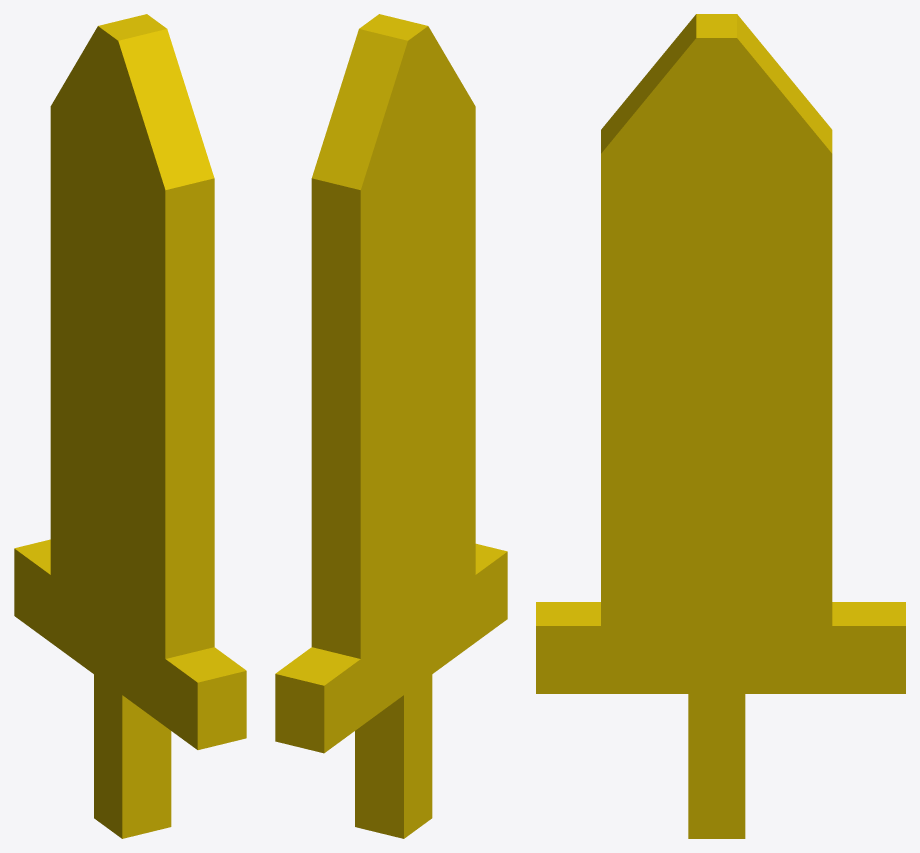
Rendered from Sword.fbx.
3 renders of one model, left to right at view 1: azimuth 30°, elevation 25°; view 2: azimuth 150°, elevation 25°; view 3: azimuth 270°, elevation 25°, orthographic.
Visible parts, largest first — view 1: Cube; view 2: Cube; view 3: Cube.
Boxes of the visible parts, x1,y1,x2,y2 form: Cube: [14, 14, 246, 838]; Cube: [275, 14, 507, 838]; Cube: [536, 14, 905, 838].
Bounding box in the file's own units: 55.42 × 859 × 359.
